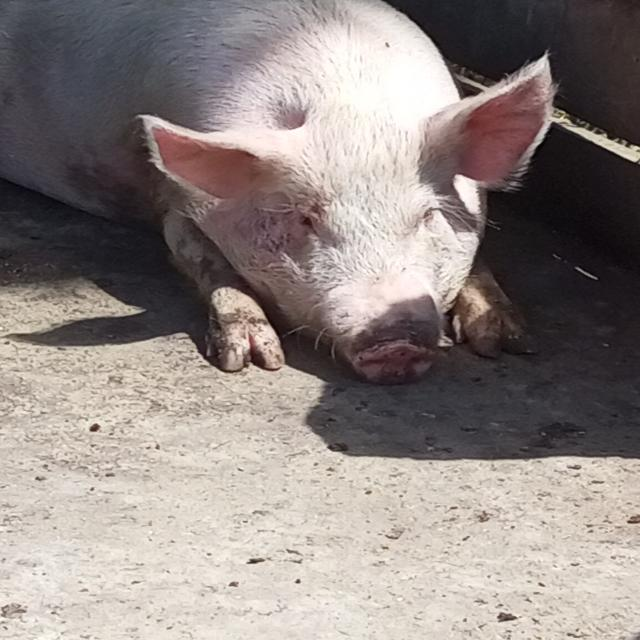pig: (0, 0, 614, 441)
